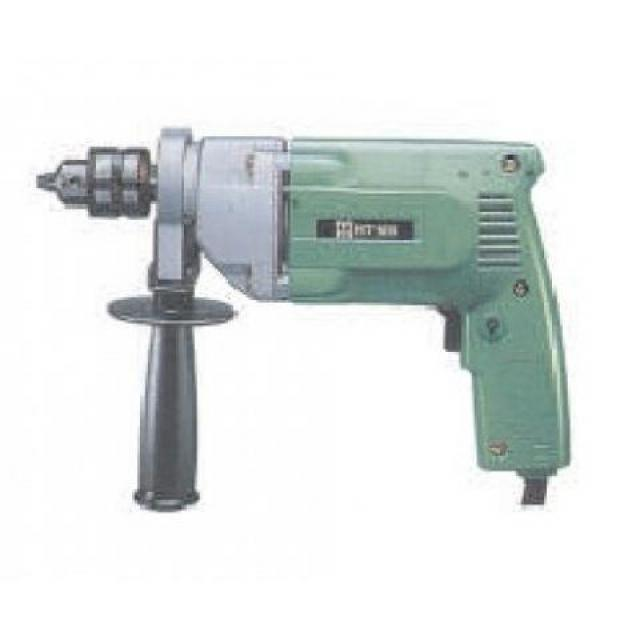drill: (33, 125, 572, 516)
